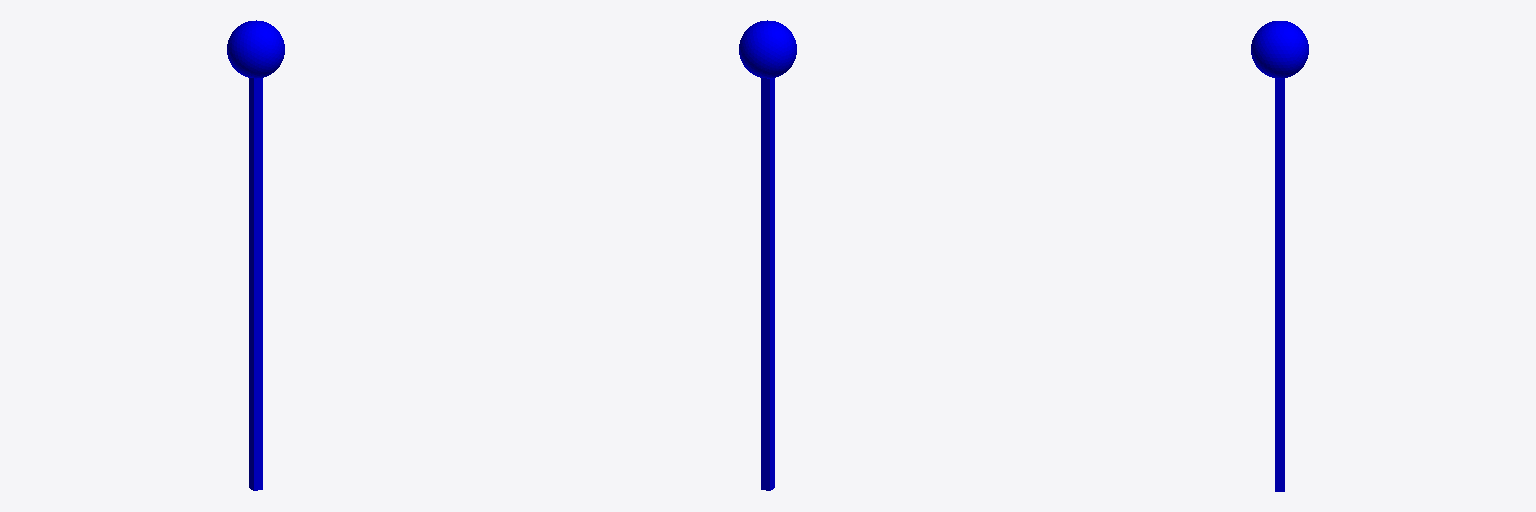
The robot description file, URDF, robot "pendulum":
<?xml version="1.0" ?>
<robot name="pendulum">
    <link name="Foot">
        <visual>
            <origin xyz="0.0 0.0 0.0" rpy="0.0 0.0 0.0" />
            <geometry>
                <mesh filename="package://meshes/simple_pendulum/Foot.STL"/>
            </geometry>
            <material name="">
                <color rgba="1.0 0.0 0.0 1.0"/>
            </material>
        </visual>
        <inertial>
            <origin xyz="0.0 0.0 0.0" rpy="0.0 0.0 0.0"/>
            <mass value="2.0"/>
            <inertia ixx="0.01" ixy="0.0" ixz="0.0" iyy="0.01" iyz="0.0" izz="0.01"/>
        </inertial>
    </link>
    <joint name="Corner1Joint" type="fixed">
      <origin xyz="0.1 0.1 0.0" rpy="0.0 0.0 0.0"/>
      <parent link="Foot"/>
      <child link="Corner1"/>
    </joint>
    <link name="Corner1">
    </link>
    <joint name="Corner2Joint" type="fixed">
      <origin xyz="0.1 -0.1 0.0" rpy="0.0 0.0 0.0"/>
      <parent link="Foot"/>
      <child link="Corner2"/>
    </joint>
    <link name="Corner2">
    </link>
    <joint name="Corner3Joint" type="fixed">
      <origin xyz="-0.1 -0.1 0.0" rpy="0.0 0.0 0.0"/>
      <parent link="Foot"/>
      <child link="Corner3"/>
    </joint>
    <link name="Corner3">
    </link>
    <joint name="Corner4Joint" type="fixed">
      <origin xyz="-0.1 0.1 0.0" rpy="0.0 0.0 0.0"/>
      <parent link="Foot"/>
      <child link="Corner4"/>
    </joint>
    <link name="Corner4">
    </link>

    <joint name="PendulumJoint" type="revolute">
      <origin xyz="0.0 0.0 0.0" rpy="0.0 0.0 0.0"/>
      <axis xyz="1 0 0"/>
      <parent link="Foot"/>
      <child link="PendulumArm"/>
      <limit effort="1000" velocity="100" lower="-100" upper="100"/>
    </joint>

    <link name="PendulumArm">
        <visual>
            <origin xyz="0.0 0.0 0.5" rpy="0.0 0.0 0.0" />
            <geometry>
                <mesh filename="package://meshes/simple_pendulum/PendulumArm.STL"/>
                <!-- <box size="0.01 0.01 0.5"/> -->
            </geometry>
            <material name="">
                <color rgba="0.0 0.0 1.0 1.0"/>
            </material>
        </visual>
        <inertial>
            <origin xyz="0.0 0.0 0.0" rpy="0.0 0.0 0.0"/>
            <mass value="0.0"/>
            <inertia ixx="0.0" ixy="0.0" ixz="0.0" iyy="0.0" iyz="0.0" izz="0.0"/>
        </inertial>
    </link>

    <joint name="PendulumMassJoint" type="fixed">
      <origin xyz="0.0 0.0 1.0" rpy="0.0 0.0 0.0"/>
      <parent link="PendulumArm"/>
      <child link="PendulumMass"/>
    </joint>
    <link name="PendulumMass">
        <visual>
            <origin xyz="0.0 0.0 0.0" rpy="0.0 0.0 0.0" />
            <geometry>
                <mesh filename="package://meshes/simple_pendulum/PendulumMass.STL"/>
                <!-- <sphere radius="0.06"/> -->
            </geometry>
            <material name="">
                <color rgba="0.0 0.0 1.0 1.0"/>
            </material>
        </visual>
        <inertial>
            <origin xyz="0.0 0.0 0.0" rpy="0.0 0.0 0.0"/>
            <mass value="150.0"/>
            <inertia ixx="0.0" ixy="0.0" ixz="0.0" iyy="0.0" iyz="0.0" izz="0.0"/>
        </inertial>
    </link>
</robot>

--- Facts derived from the render (not from the file) ---
The picture shows the robot from 3 angles, left to right: view 1: azimuth 30°, elevation 25°; view 2: azimuth 150°, elevation 25°; view 3: azimuth 270°, elevation 25°; orthographic projection.
Model pendulum with 7 links and 6 joints (1 revolute, 5 fixed), rooted at Foot, posed all joints at 0.
Links seen in each view (by area): view 1: PendulumArm, PendulumMass; view 2: PendulumArm, PendulumMass; view 3: PendulumArm, PendulumMass.
Link boxes in pixels (box(x1,y1,x2,y2)): PendulumArm: box(249, 78, 262, 490); PendulumMass: box(227, 20, 284, 78); PendulumArm: box(761, 78, 774, 490); PendulumMass: box(739, 20, 796, 78); PendulumArm: box(1275, 78, 1284, 491); PendulumMass: box(1251, 21, 1308, 78).
Size in the robot's own frame: 0.12 by 0.12 by 1.06 metres.
2 mesh visuals loaded from 3 distinct referenced files (2 ASCII STL); not drawn: 1 (reference not matched to a file when rendering).
